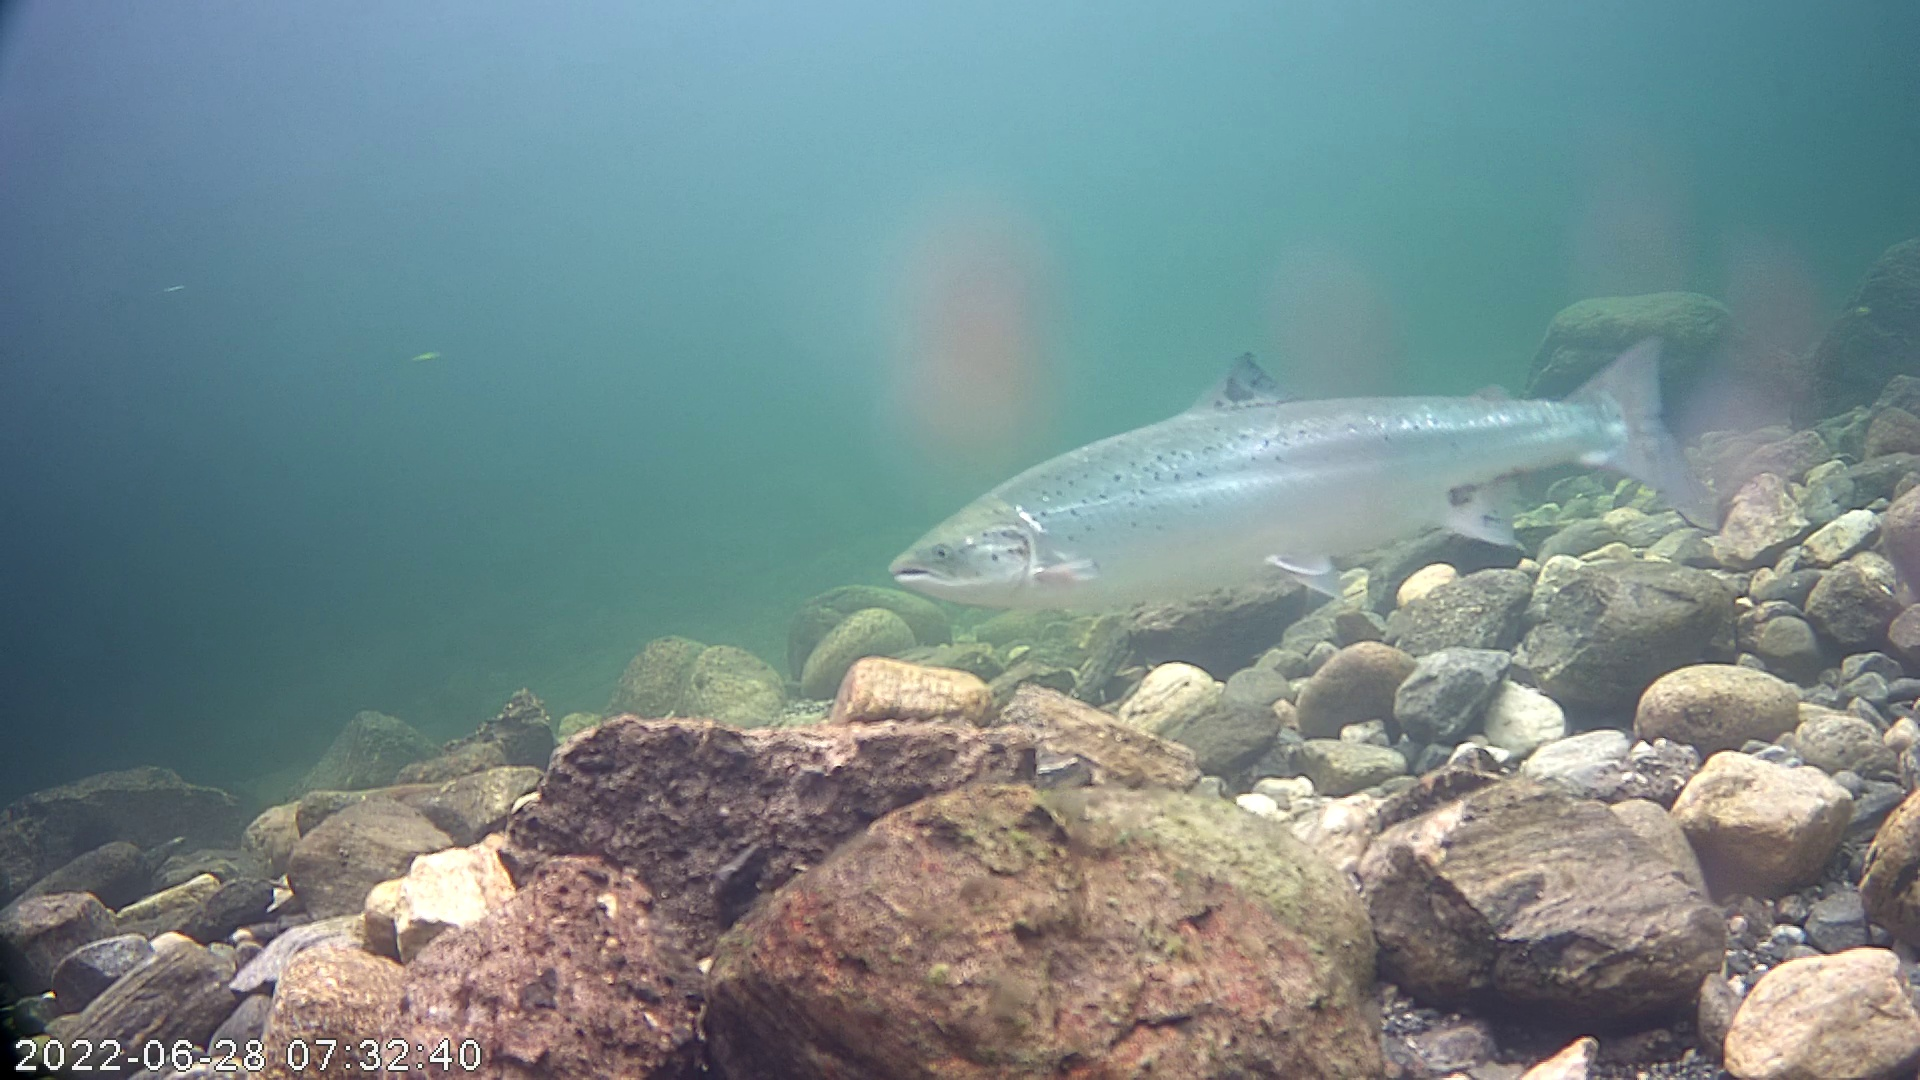salmon: (877, 237, 1724, 669)
